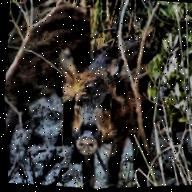boar: (56, 16, 192, 186)
